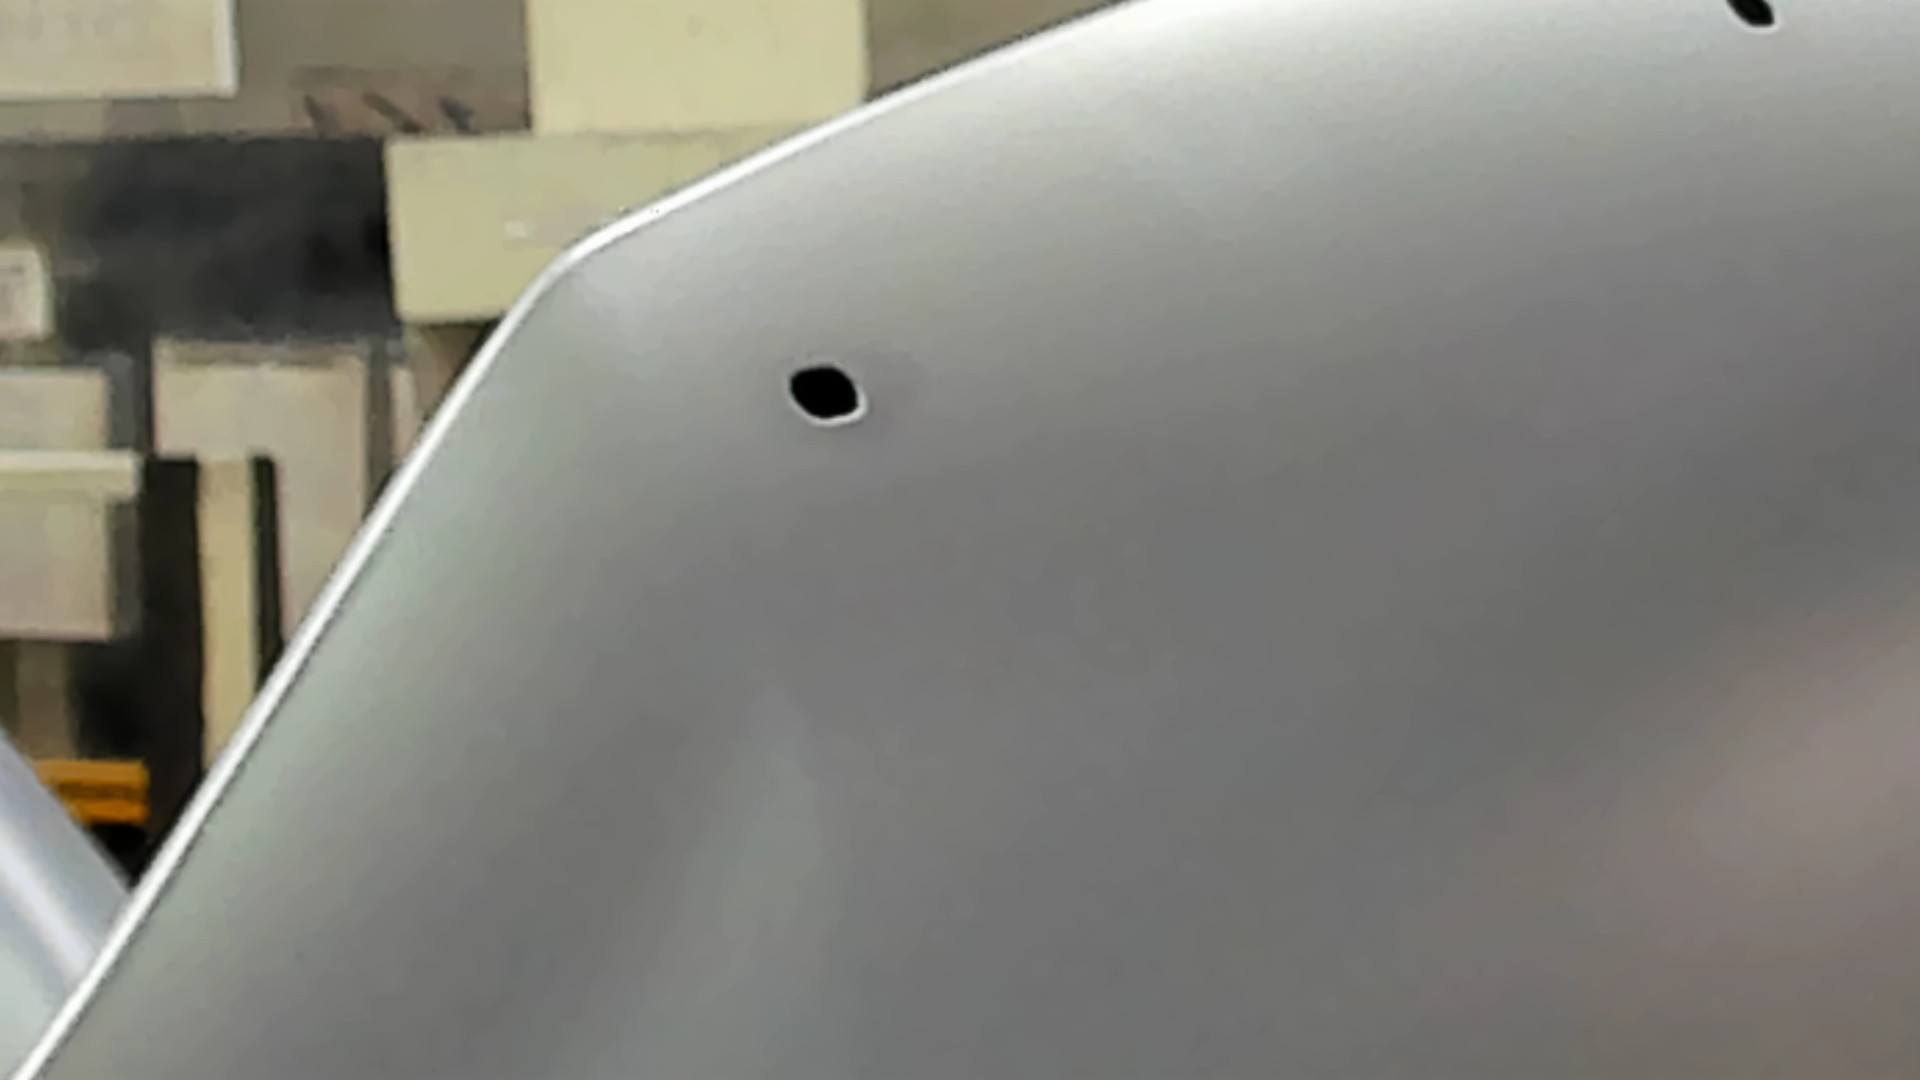amorfo: (778, 355, 869, 436), (1716, 1, 1783, 36)
